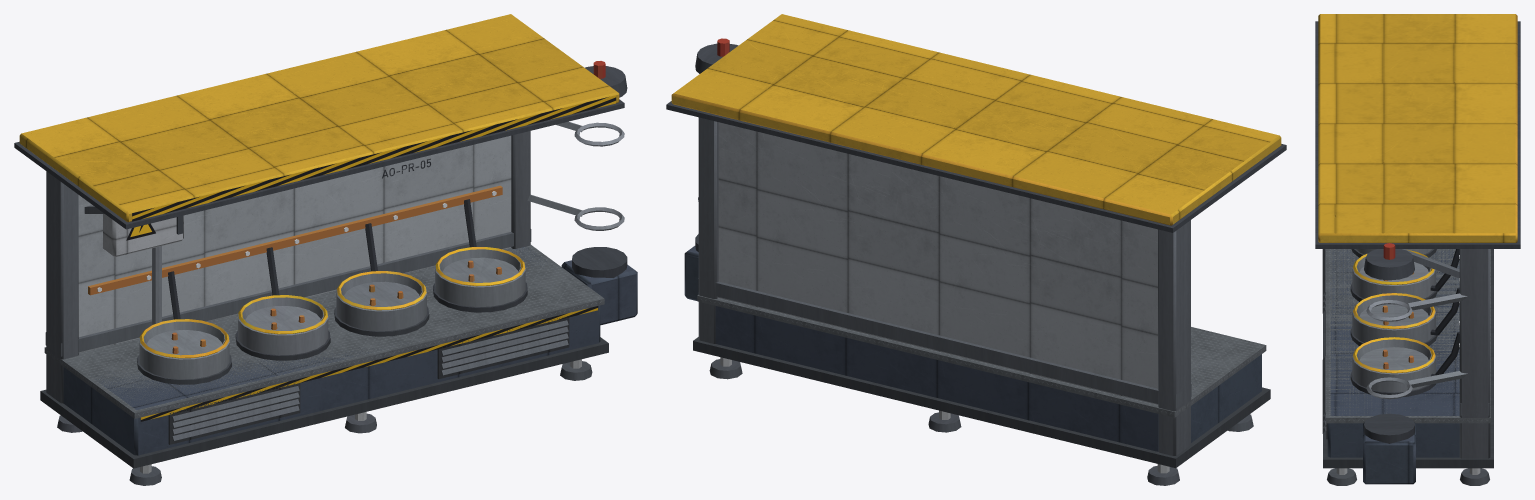
The model's file is charge_rack.glb.
3 renders of one model, left to right at view 1: azimuth 30°, elevation 25°; view 2: azimuth 150°, elevation 25°; view 3: azimuth 270°, elevation 25°, orthographic. The views are drawn at different scales.
Visible parts, largest first — view 1: rack_body; view 2: rack_body; view 3: rack_body.
Boxes of the visible parts, bbox=[...] form: rack_body: bbox=[14, 14, 637, 485]; rack_body: bbox=[666, 14, 1286, 485]; rack_body: bbox=[1315, 14, 1520, 485].
Size of the model in its own units: 6.01 by 3.02 by 2.16.
6 materials, 4 textured.
